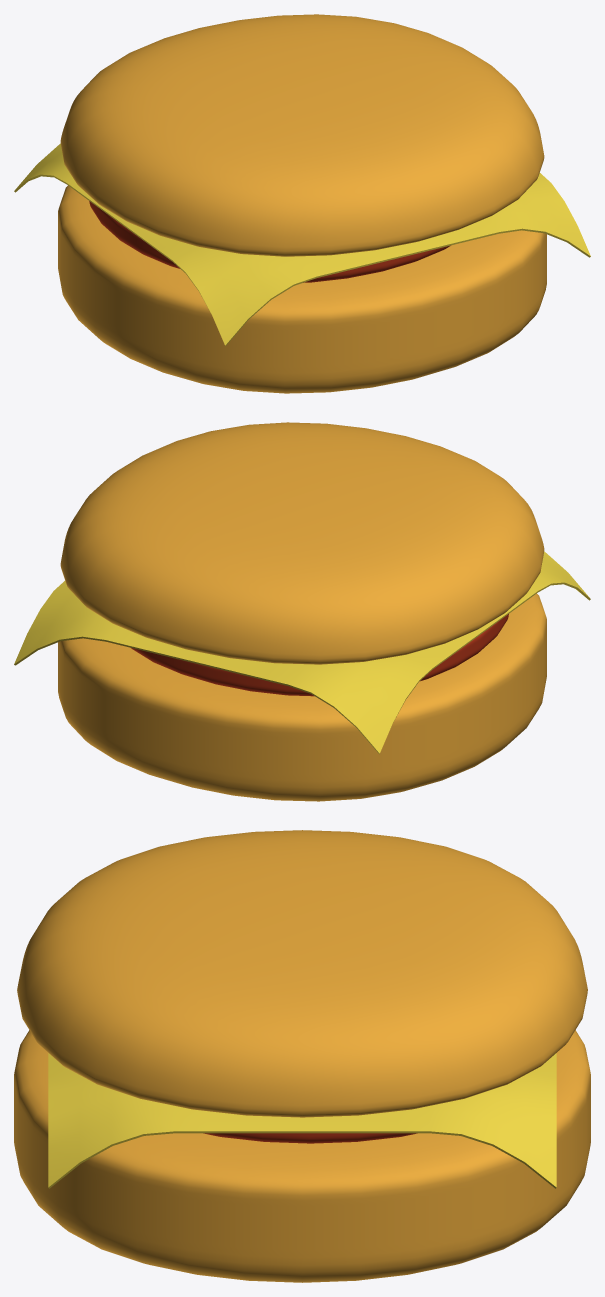
Rendered from hamburger01.glb.
3 renders of one model, top to bottom at view 1: azimuth 30°, elevation 25°; view 2: azimuth 150°, elevation 25°; view 3: azimuth 270°, elevation 25°, orthographic. The views are drawn at different scales.
Visible parts, largest first — view 1: Cube.002, Cube, Plane, Cube.001; view 2: Cube.002, Cube, Plane, Cube.001; view 3: Cube.002, Cube, Plane, Cube.001.
Boxes of the visible parts, bbox=[...] form: Cube.002: bbox=[60, 14, 544, 256]; Cube: bbox=[58, 185, 546, 393]; Plane: bbox=[14, 143, 590, 346]; Cube.001: bbox=[89, 201, 450, 282]; Cube.002: bbox=[60, 422, 544, 664]; Cube: bbox=[58, 593, 546, 801]; Plane: bbox=[14, 551, 590, 754]; Cube.001: bbox=[131, 614, 508, 696]; Cube.002: bbox=[17, 830, 587, 1117]; Cube: bbox=[14, 1030, 590, 1282]; Plane: bbox=[48, 1053, 556, 1188]; Cube.001: bbox=[203, 1133, 417, 1143].
Bounding box in the file's own units: 9.17 × 4.9 × 9.17.
